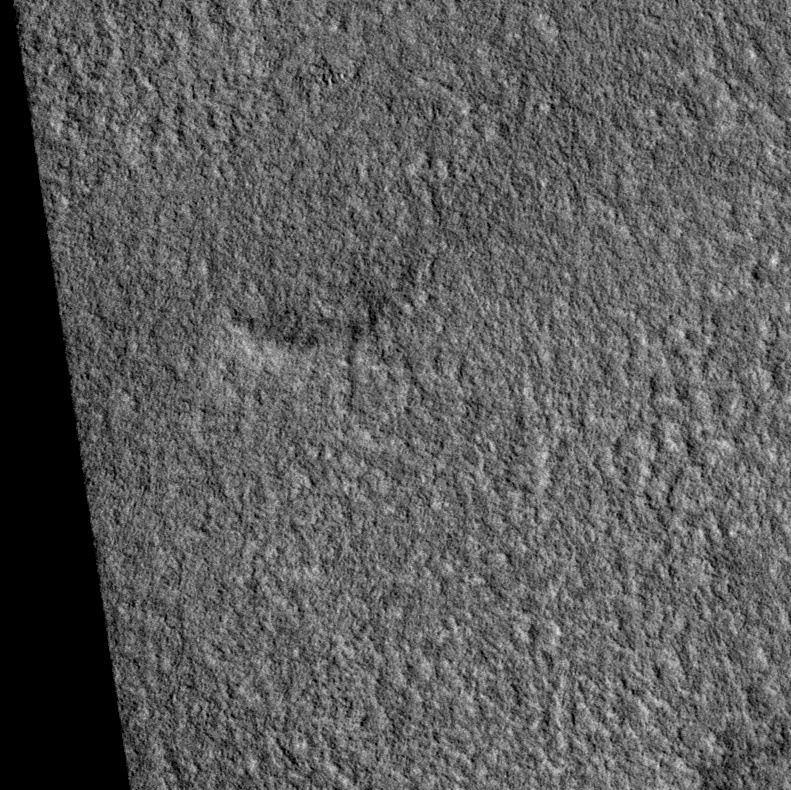dust_devil: (223, 292, 384, 364)
